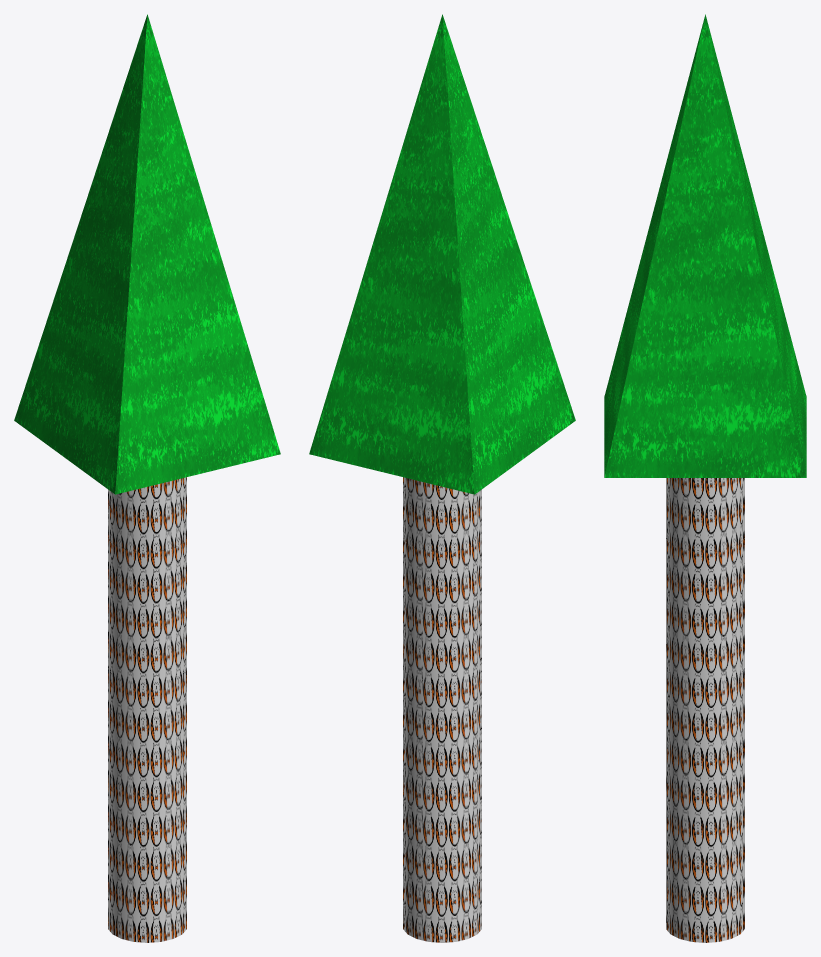
The model's file is kariki.FBX.
3 views of the same model, side by side, from view 1: azimuth 30°, elevation 25°; view 2: azimuth 150°, elevation 25°; view 3: azimuth 270°, elevation 25° (orthographic).
Parts seen in each view (by area): view 1: Pyramid001, Cylinder001; view 2: Pyramid001, Cylinder001; view 3: Pyramid001, Cylinder001.
Part boxes in pixels (x1=…): Pyramid001: x1=14, y1=14, x2=280, y2=494; Cylinder001: x1=108, y1=477, x2=186, y2=942; Pyramid001: x1=309, y1=14, x2=575, y2=494; Cylinder001: x1=403, y1=477, x2=481, y2=942; Pyramid001: x1=604, y1=14, x2=806, y2=477; Cylinder001: x1=666, y1=478, x2=744, y2=942.
Size of the model in its own units: 536 by 567 by 2819.
2 materials, 2 textured.
